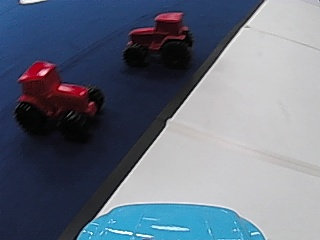tractor: (13, 56, 98, 137), (121, 10, 196, 70)
